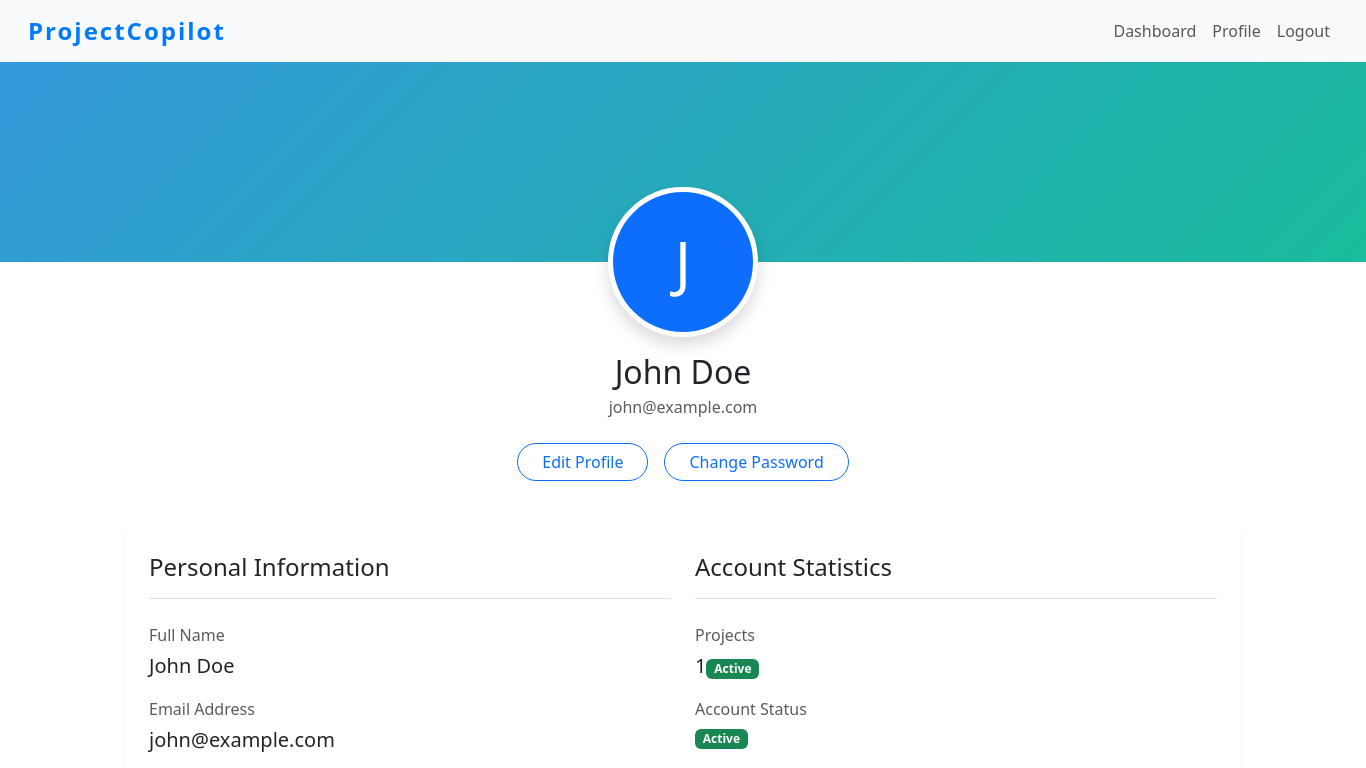
it: shows error when passwords do not match
This screenshot has width=1366, height=768.
Click the button "Change Password" at (757, 462), box [664, 443, 849, 481]
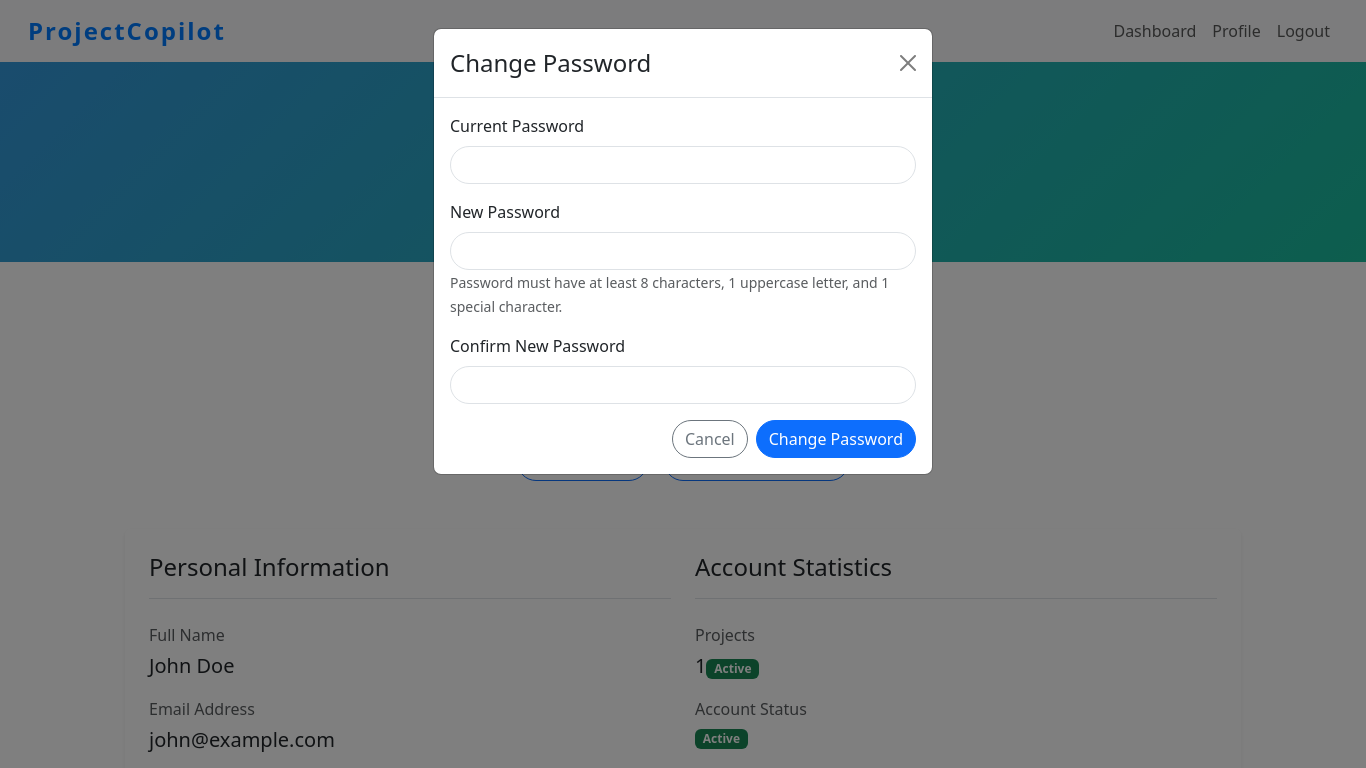
Expected: the number of buttons "Change Password" is 3, [664, 443, 849, 481]; [450, 45, 651, 81]; [756, 420, 916, 458]
Type "currentPassword123!" into the password field below "Current Password" at (683, 165), box [450, 146, 916, 184]
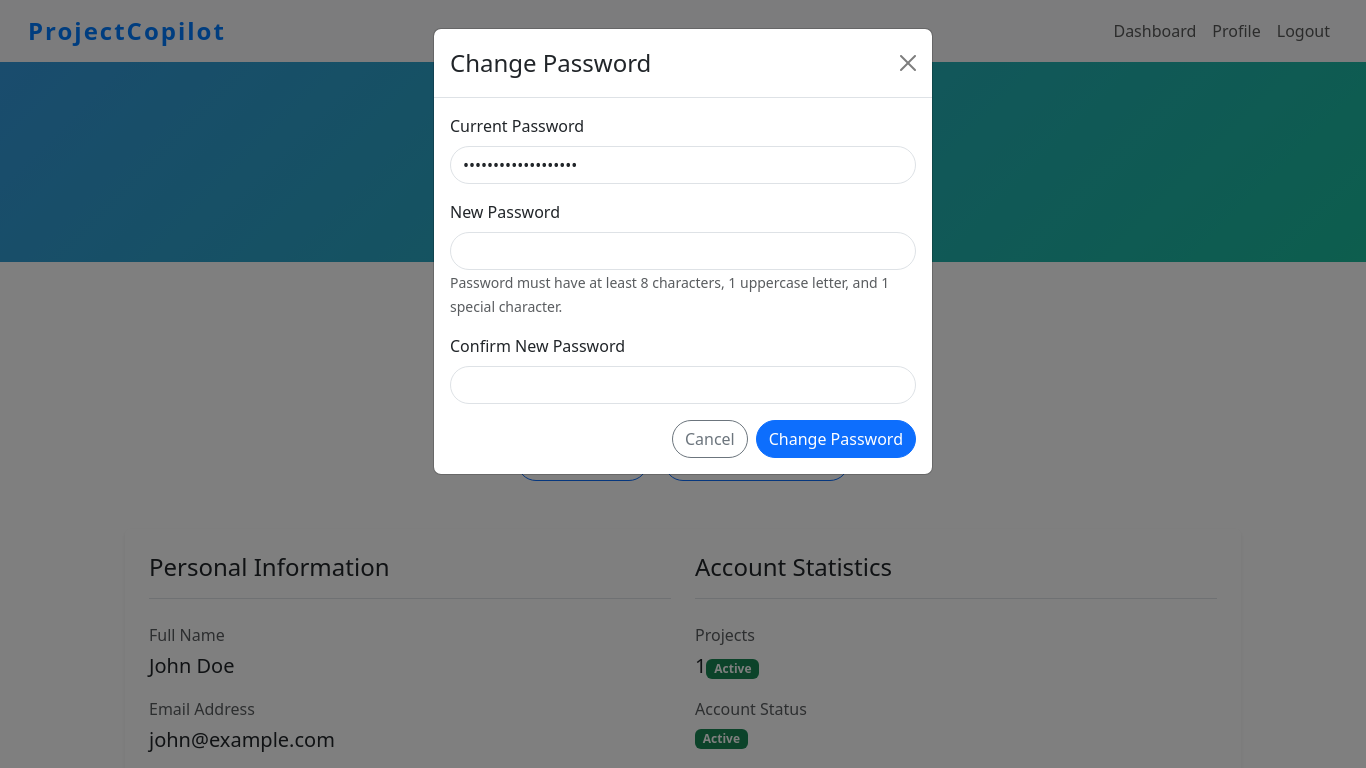
Type "newPassword123!" into the 2nd password field at (683, 251), box [450, 232, 916, 270]
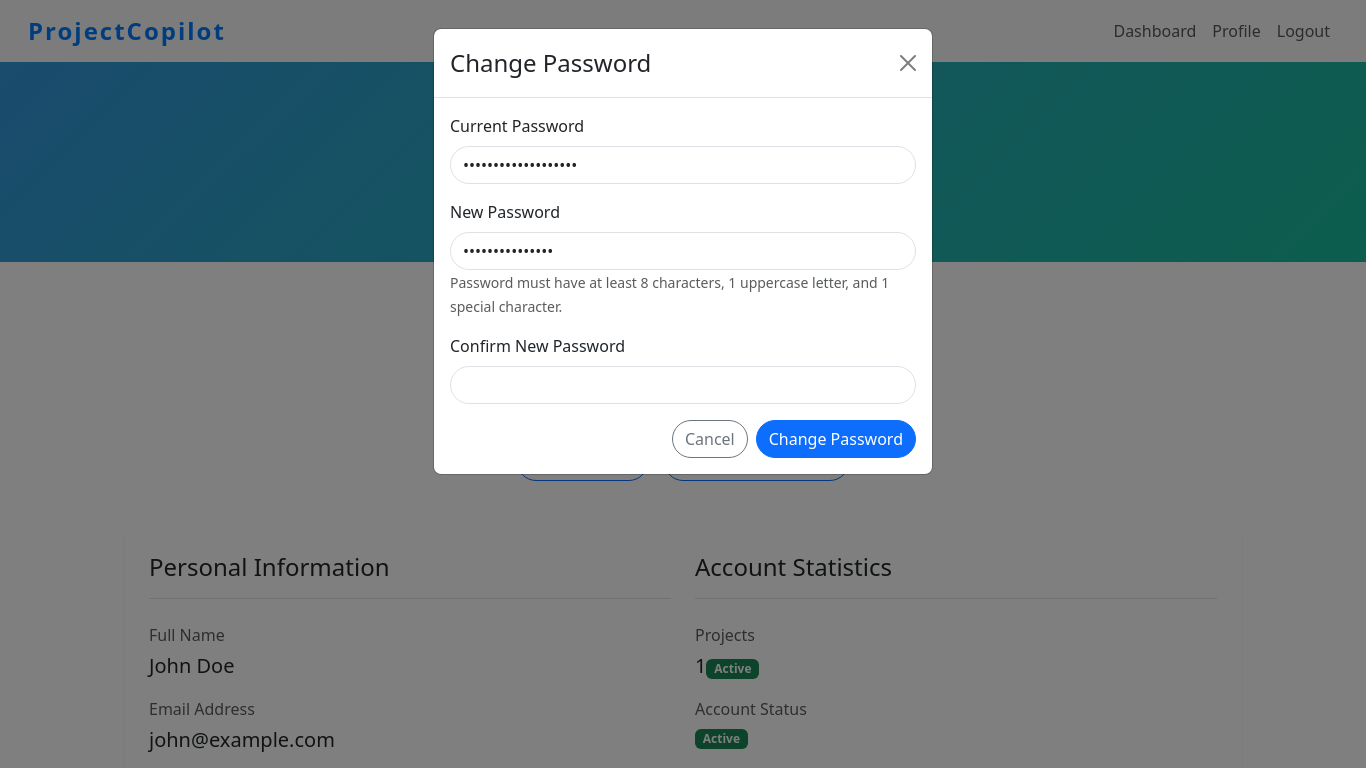
Type "differentPassword123!" into the password field below "Confirm New Password" at (683, 385), box [450, 366, 916, 404]
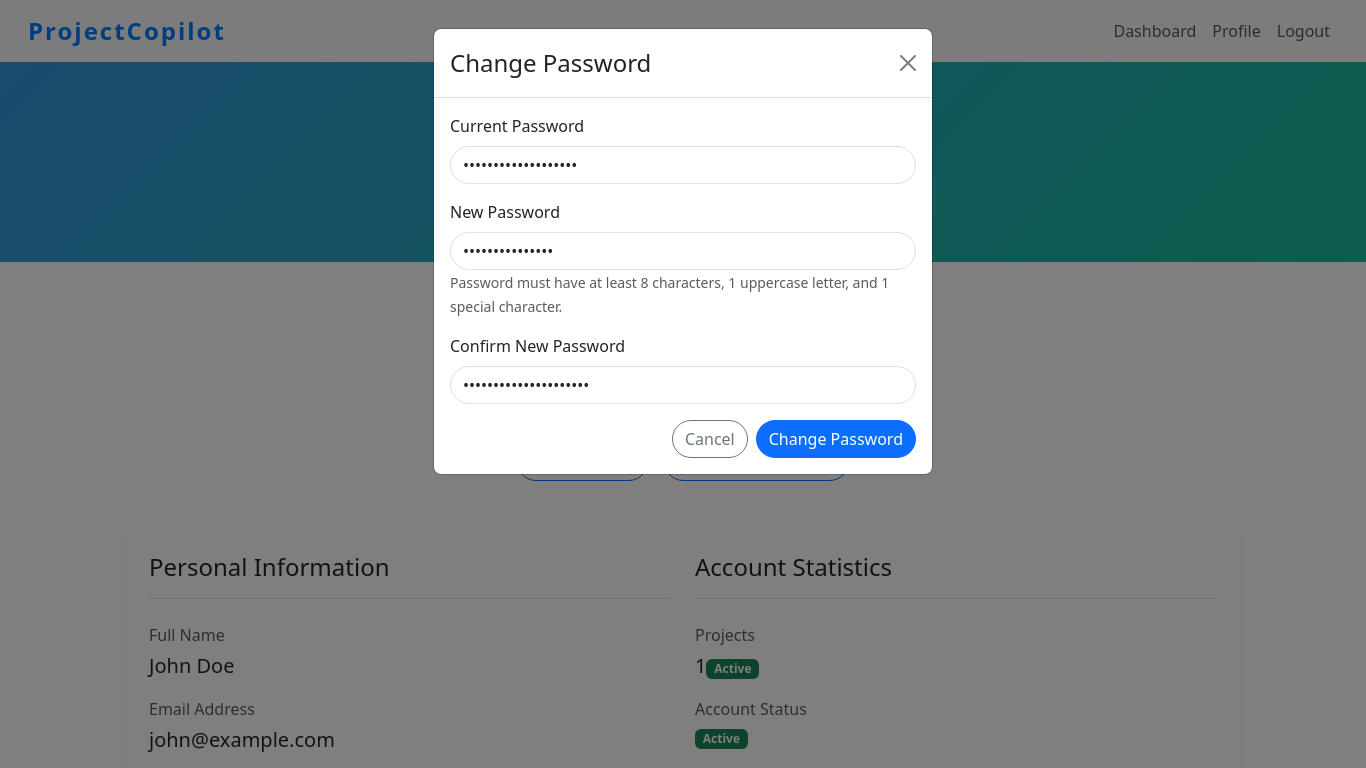
Note: Submit password change
Click the button "Change Password" at (836, 439), box [756, 420, 916, 458]
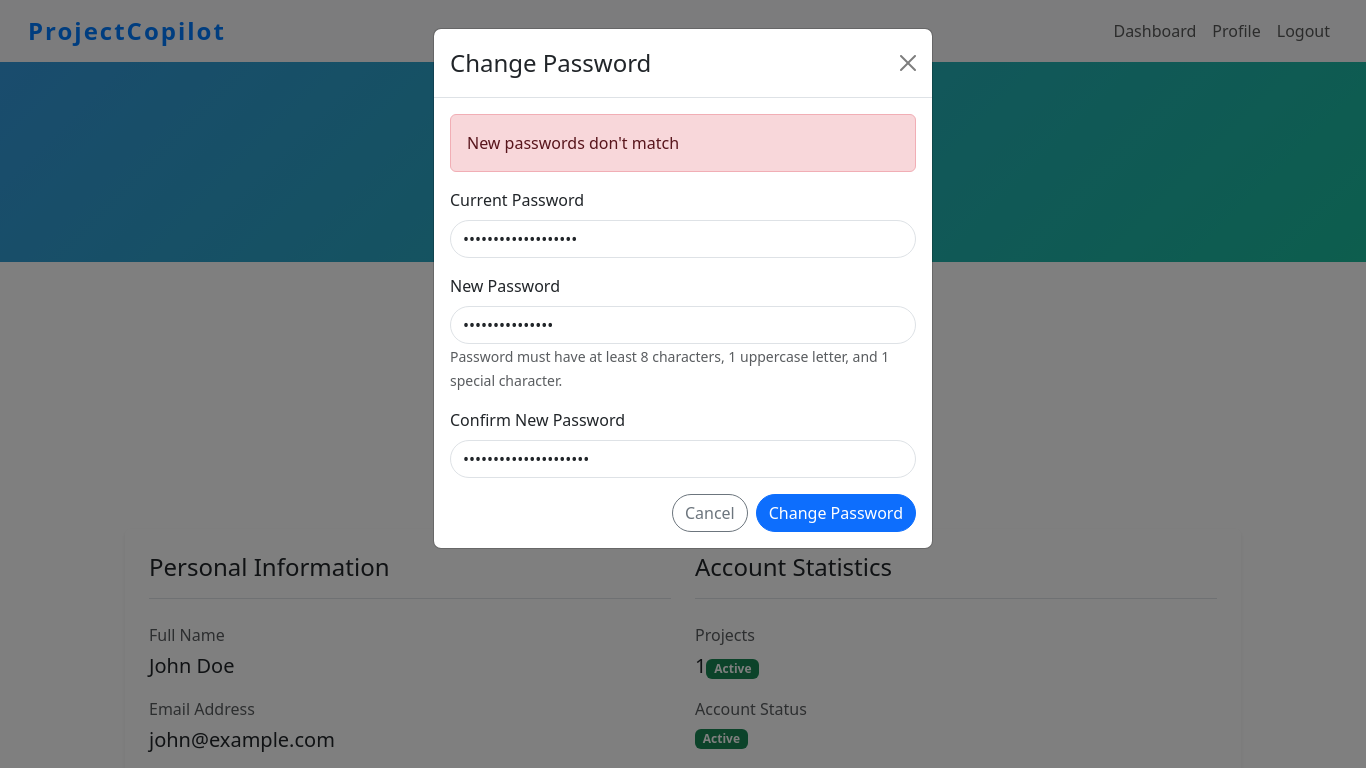
Expected: the text "New passwords don't match" is shown, [450, 114, 916, 172]
